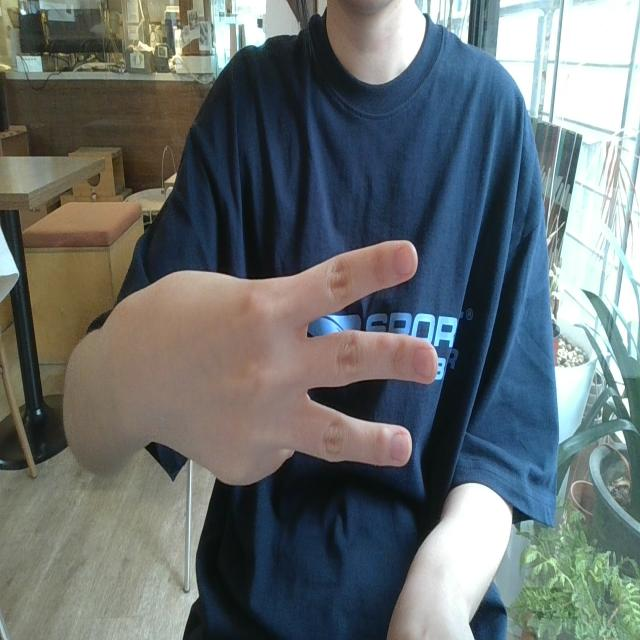rieul: (114, 228, 452, 512)
